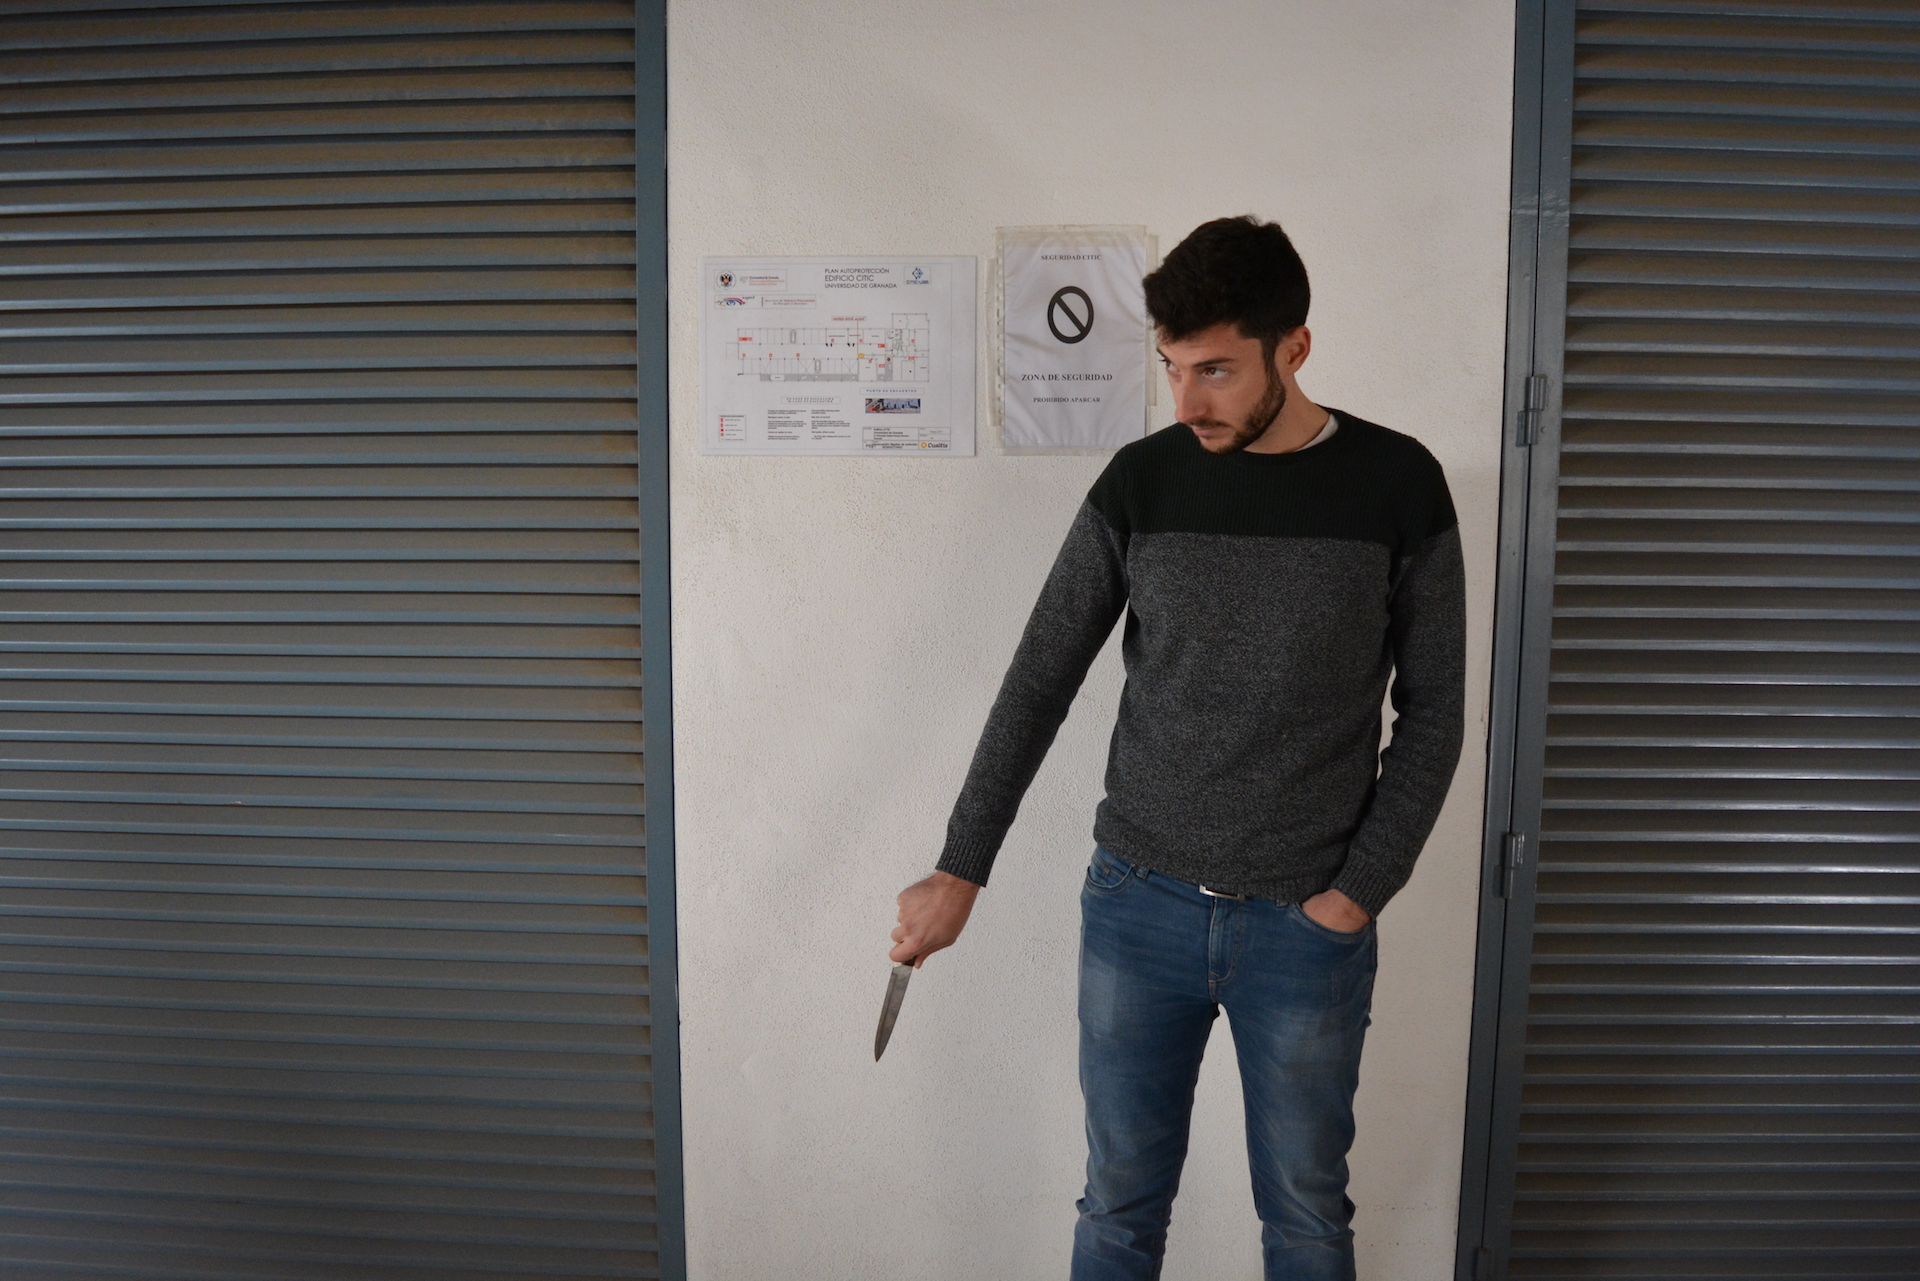knife: (866, 914, 936, 1069)
